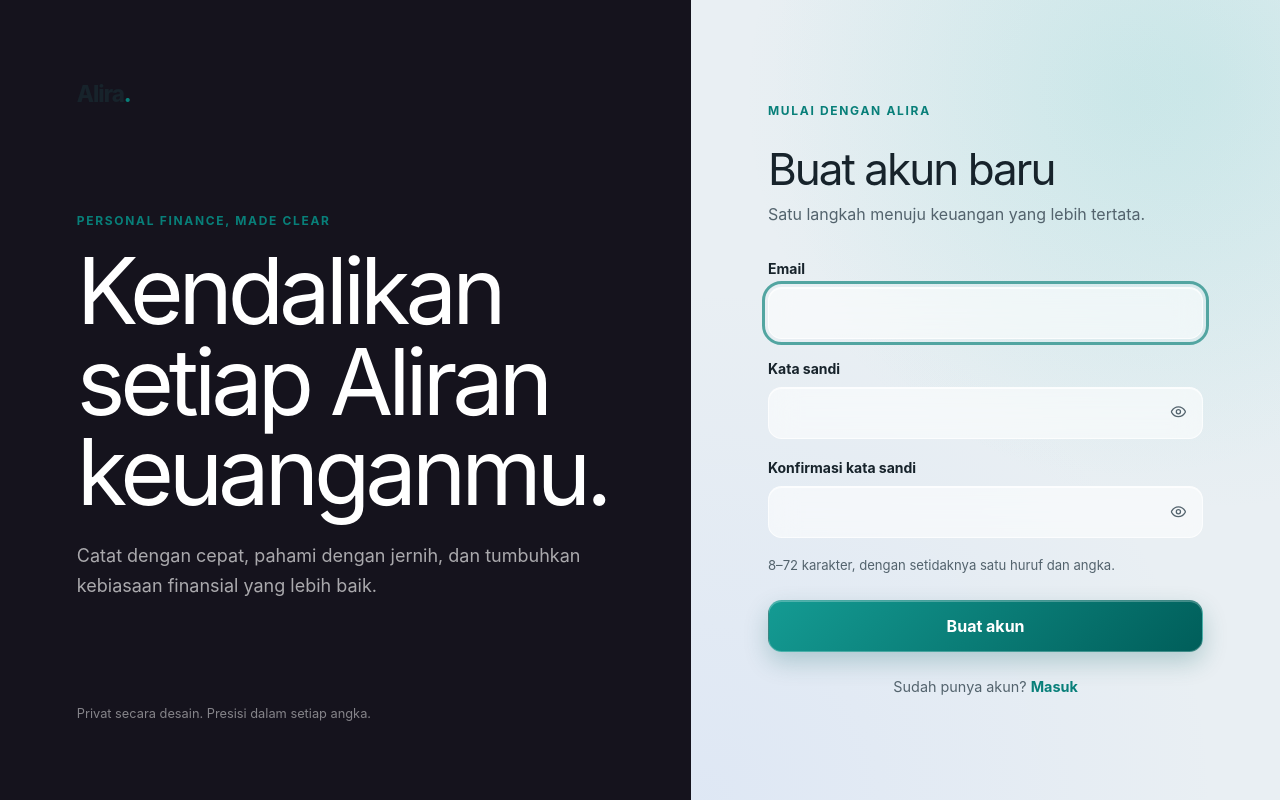
Test case: authentication flows › registers successfully without sending confirmPassword
Expected: the heading "Buat akun baru" is shown, [768,142,1054,196]
Type "new@example.com" into the field labelled "Email" at (986, 313), box [768,287,1203,339]
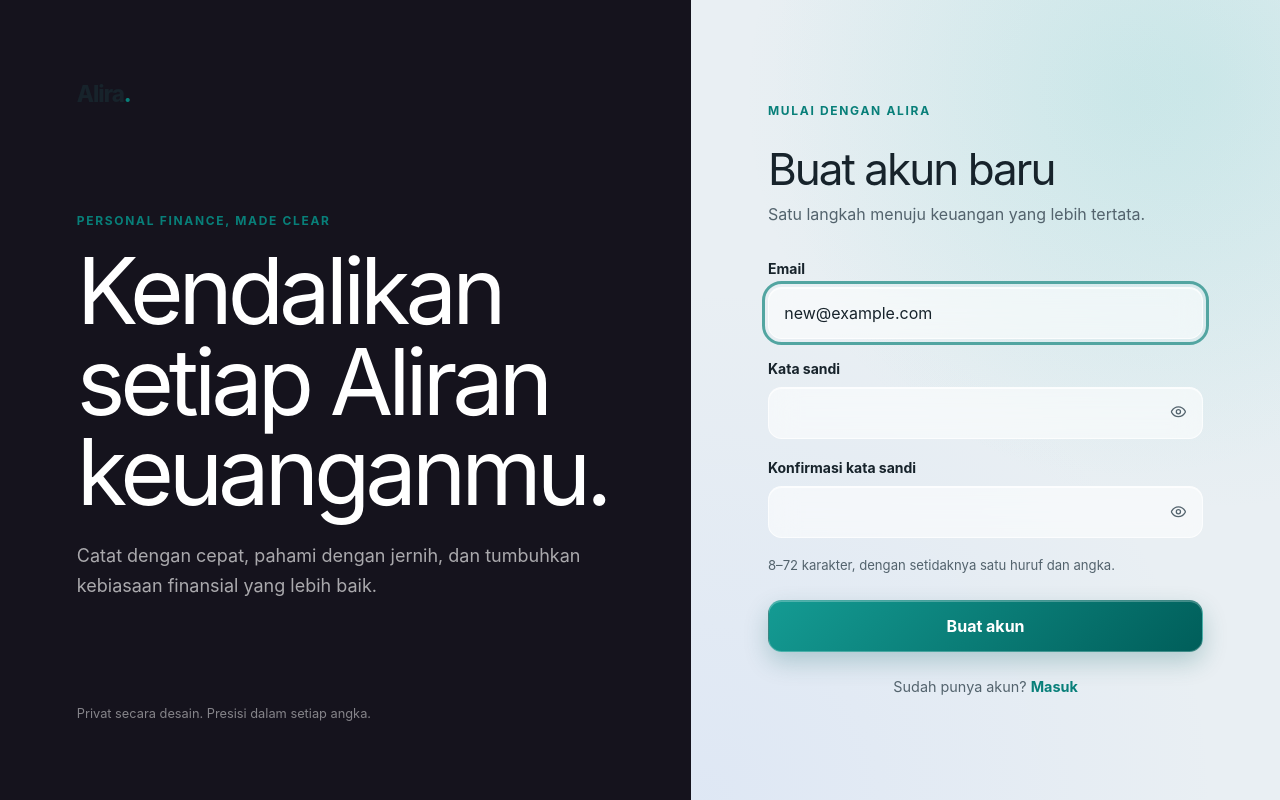
Type "Password1" into the password field labelled "Kata sandi" at (986, 413), box [768,387,1203,439]
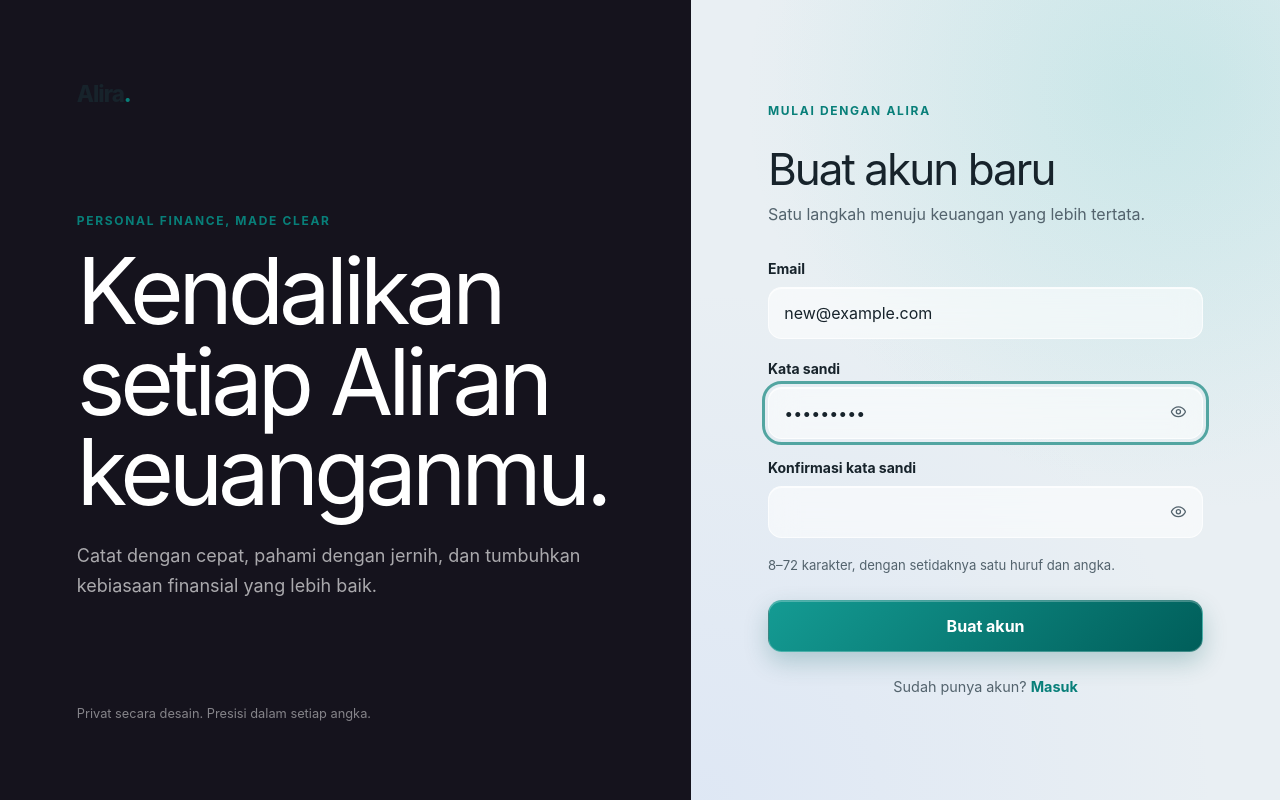
Type "Password1" into the password field labelled "Konfirmasi kata sandi" at (986, 512), box [768,486,1203,538]
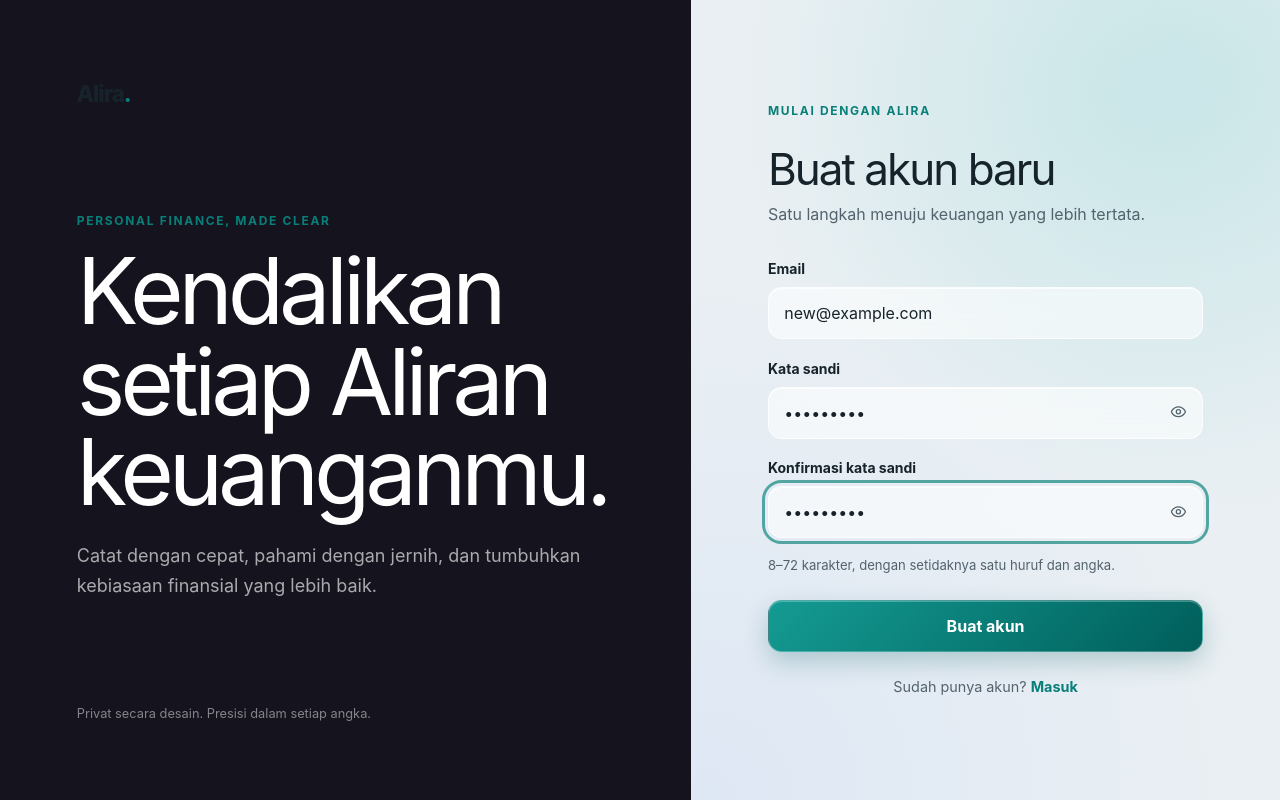
Click the button "Buat akun" at (986, 626), box [768,600,1203,652]
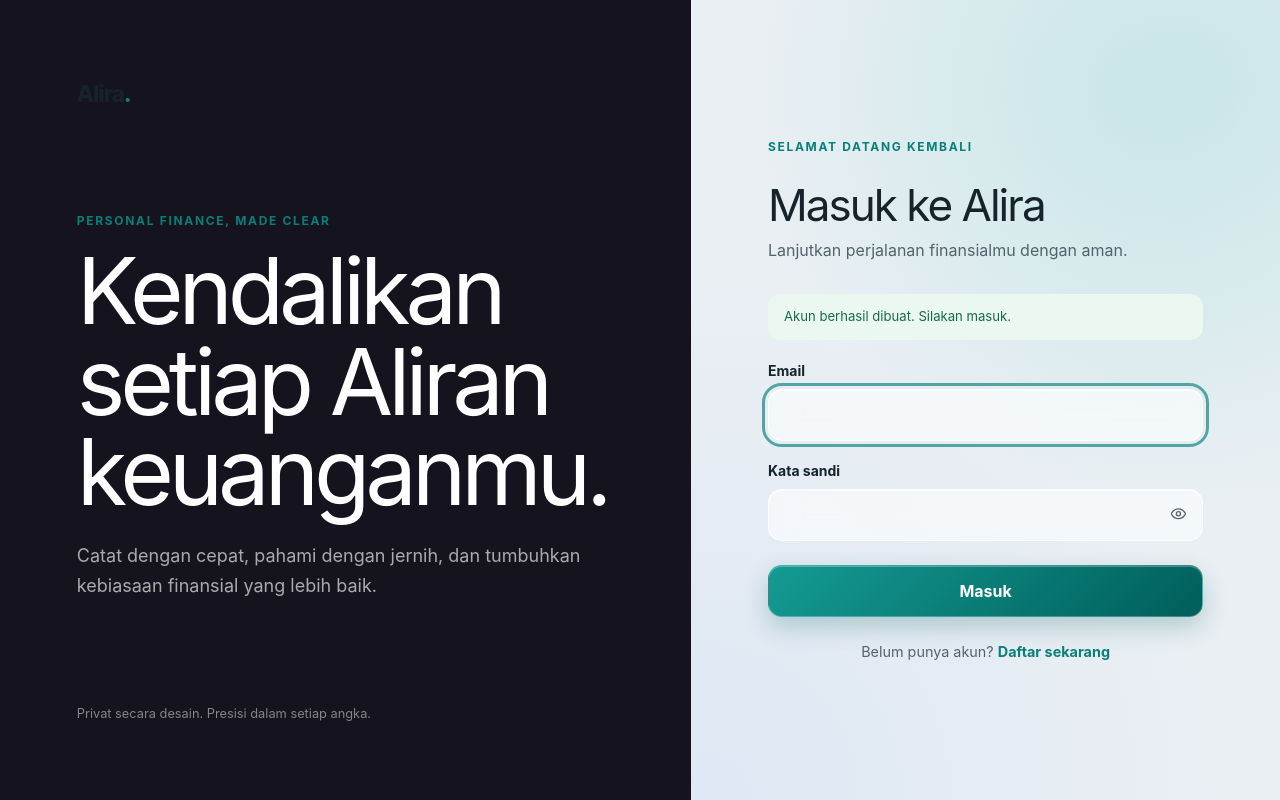
Expected: the text "Akun berhasil dibuat. Silakan masuk." is shown, [768,294,1203,340]
